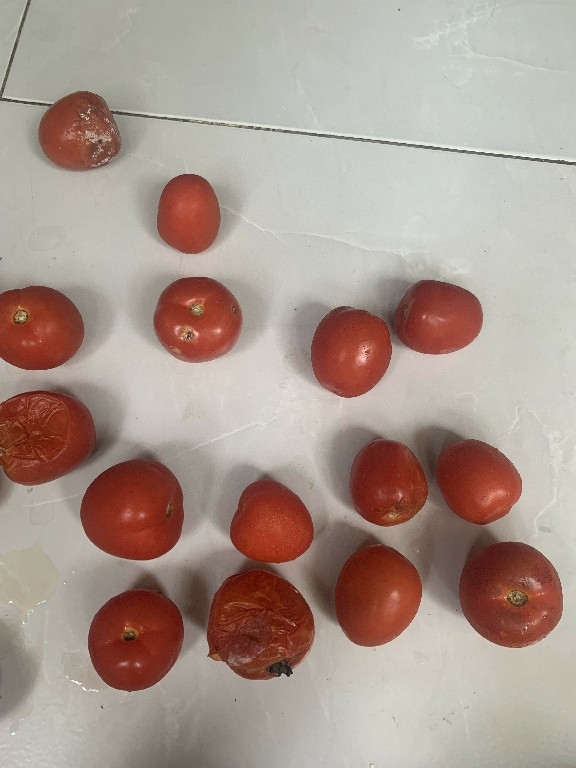NG: (198, 565, 316, 682), (0, 385, 100, 490), (148, 273, 244, 362), (345, 435, 428, 531), (35, 88, 122, 179)
OK: (456, 536, 565, 647), (324, 540, 431, 651), (72, 457, 186, 561), (81, 586, 182, 696), (427, 434, 528, 529), (224, 469, 321, 565), (302, 298, 392, 396), (389, 275, 489, 360), (0, 280, 83, 372), (152, 170, 227, 260)
